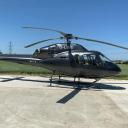helicopter: (2, 23, 128, 95)
